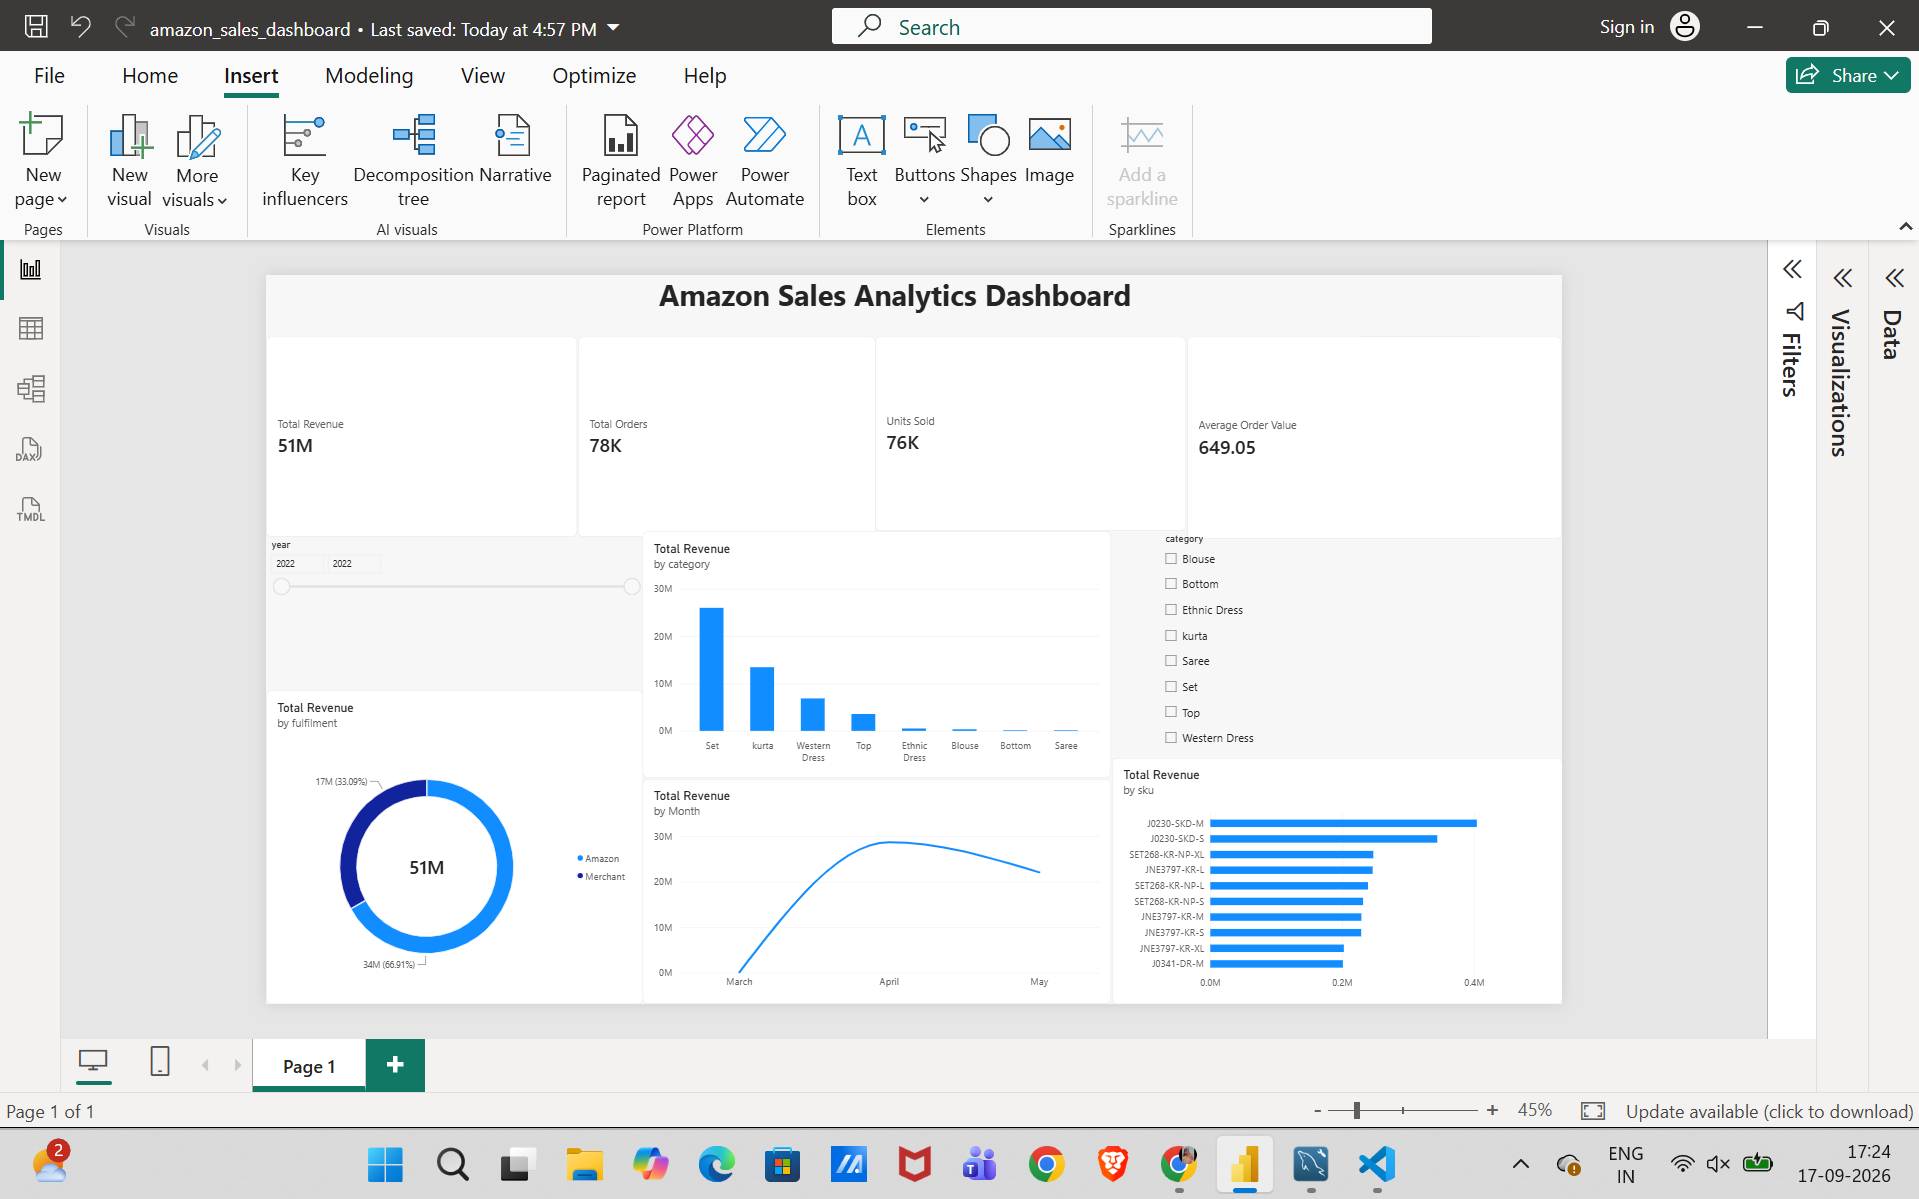

The page's visual inventory and layout, read from the dashboard file:
{"tool":"powerbi","page":{"name":"Page 1","canvas":[1920,1080],"ordinal":0},"visuals":[{"type":"cardVisual","fields":{"Data":["dim_customer.Total Revenue"]},"box":[0,91.2,461.8,297.1],"z":0},{"type":"cardVisual","fields":{"Data":["fact_sales.Total Orders"]},"box":[461.8,91.2,441.2,297.1],"z":1000},{"type":"cardVisual","fields":{"Data":["fact_sales.Units Sold"]},"box":[902.9,91.2,461.8,288.2],"z":2000},{"type":"cardVisual","fields":{"Data":["fact_sales.Average Order Value"]},"box":[1364.7,91.2,555.9,300],"z":3000},{"type":"lineChart","fields":{"Category":["dim_date.order_date.Variation.Date Hierarchy.Month"],"Y":["dim_customer.Total Revenue"]},"box":[558.8,747.1,694.1,332.4],"z":4000},{"type":"clusteredColumnChart","fields":{"Category":["dim_product.category"],"Y":["dim_customer.Total Revenue"]},"box":[558.8,379.4,694.1,364.7],"z":4001},{"type":"clusteredBarChart","fields":{"Category":["dim_product.sku"],"Y":["dim_customer.Total Revenue"]},"box":[1252.9,714.7,667.6,364.7],"z":4002},{"type":"donutChart","fields":{"Category":["fact_sales.fulfilment"],"Y":["dim_customer.Total Revenue"]},"box":[0,614.7,558.8,464.7],"z":4003},{"type":"slicer","fields":{"Values":["dim_product.category"]},"box":[1323.5,382.4,597.1,332.4],"z":4004},{"type":"slicer","fields":{"Values":["dim_date.year"]},"box":[0,391.2,558.8,150],"z":4005},{"type":"textbox","box":[1624,0,174,281],"z":4006},{"type":"textbox","box":[647.1,0,458.8,241.2],"z":4007},{"type":"textbox","box":[582.4,0,955.9,91.2],"z":4008}]}

Visuals, with their boxes on the page's 1920x1080 design canvas (x1, y1, x2, y2). These are canvas units, not pixel positions in the 1919x1199 screenshot, which may show the page scaled, cropped or inside an application window:
cardVisual - dim_customer.Total Revenue: <region>0, 91, 462, 388</region>
cardVisual - fact_sales.Total Orders: <region>462, 91, 903, 388</region>
cardVisual - fact_sales.Units Sold: <region>903, 91, 1365, 379</region>
cardVisual - fact_sales.Average Order Value: <region>1365, 91, 1921, 391</region>
lineChart - dim_date.order_date.Variation.Date Hierarchy.Month x dim_customer.Total Revenue: <region>559, 747, 1253, 1080</region>
clusteredColumnChart - dim_product.category x dim_customer.Total Revenue: <region>559, 379, 1253, 744</region>
clusteredBarChart - dim_product.sku x dim_customer.Total Revenue: <region>1253, 715, 1920, 1079</region>
donutChart - fact_sales.fulfilment x dim_customer.Total Revenue: <region>0, 615, 559, 1079</region>
slicer - dim_product.category: <region>1324, 382, 1921, 715</region>
slicer - dim_date.year: <region>0, 391, 559, 541</region>
textbox: <region>1624, 0, 1798, 281</region>
textbox: <region>647, 0, 1106, 241</region>
textbox: <region>582, 0, 1538, 91</region>
